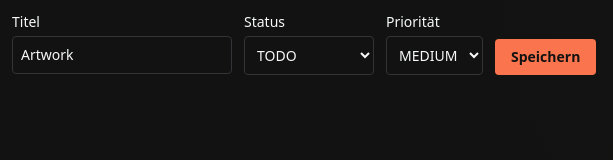
Test: keeps edits on a network failure and allows retry
Click the button "Speichern" at (546, 57), box [495, 39, 596, 75]
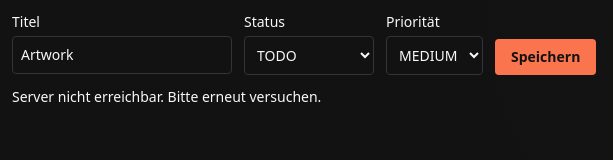
Expected: the field labelled "Titel" holds "Artwork", [12, 36, 232, 74]
Now the text "Server nicht erreichbar. Bitte erneut versuchen." is shown, box [12, 87, 321, 106]
